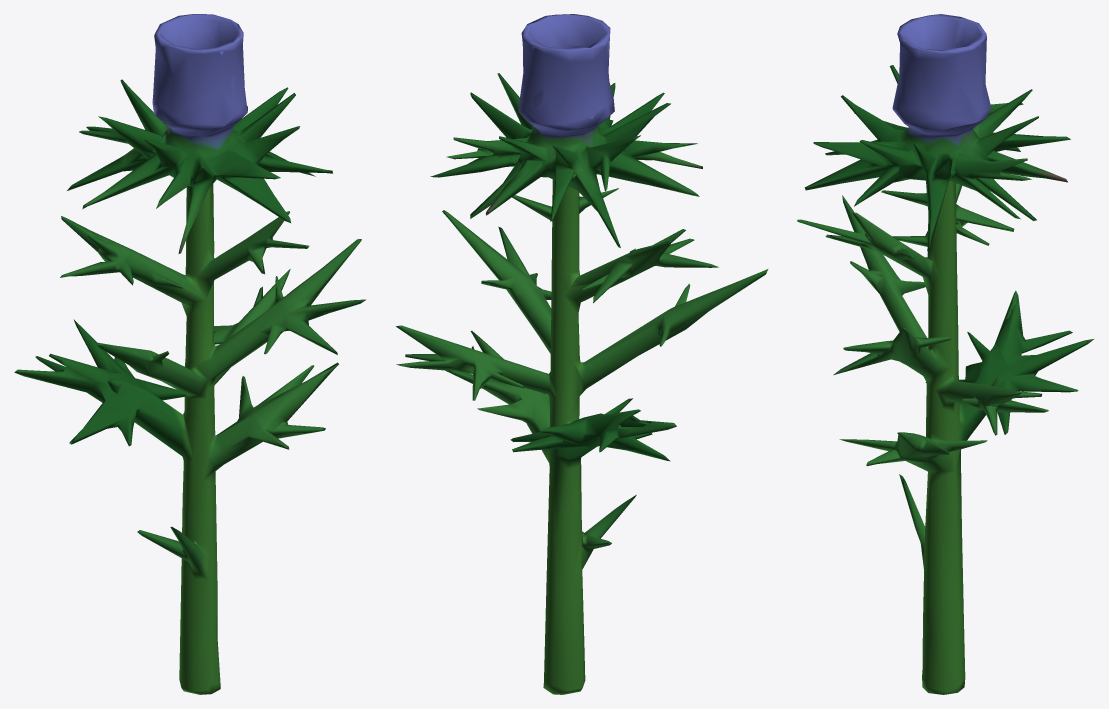
File: gen3d-thistle-plant-lod0.glb
3 views of the same model, side by side, from view 1: azimuth 30°, elevation 25°; view 2: azimuth 150°, elevation 25°; view 3: azimuth 270°, elevation 25° (orthographic).
Visible parts, largest first — view 1: part_0; view 2: part_0; view 3: part_0.
Part boxes in pixels (x1,y1,x2,y2): part_0: [14, 14, 365, 694]; part_0: [396, 14, 768, 694]; part_0: [797, 14, 1093, 694].
Size of the model in its own units: 0.4704 by 1 by 0.4121.
